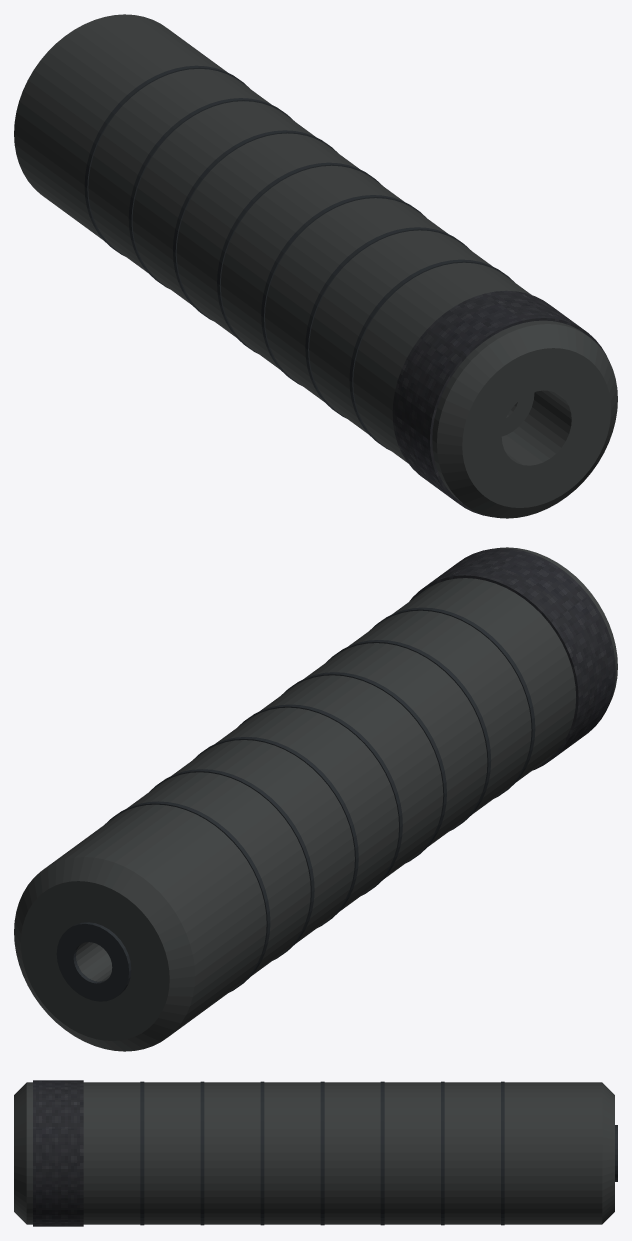
The model's file is supressor_308.glb.
The picture shows the model from 3 angles, top to bottom: view 1: azimuth 30°, elevation 25°; view 2: azimuth 150°, elevation 25°; view 3: azimuth 270°, elevation 25°; orthographic projection. The views are drawn at different scales.
Parts seen in each view (by area): view 1: supressor_308_aco_fosfatado, supressor_308_recartilhado, supressor_308_aco_oxidado; view 2: supressor_308_aco_fosfatado, supressor_308_aco_oxidado, supressor_308_recartilhado; view 3: supressor_308_aco_fosfatado, supressor_308_recartilhado, supressor_308_aco_oxidado.
Boxes of the visible parts, x1,y1,x2,y2 form: supressor_308_aco_fosfatado: (14,14,617,518); supressor_308_recartilhado: (392,290,607,517); supressor_308_aco_oxidado: (84,65,514,450); supressor_308_aco_fosfatado: (14,547,617,1051); supressor_308_aco_oxidado: (56,607,535,1001); supressor_308_recartilhado: (409,548,615,770); supressor_308_aco_fosfatado: (14,1082,614,1224); supressor_308_recartilhado: (33,1080,83,1226); supressor_308_aco_oxidado: (140,1081,617,1225).
Bounding box in the file's own units: 0.0462 × 0.0462 × 0.191.
Materials: 3 (1 with a texture image).
